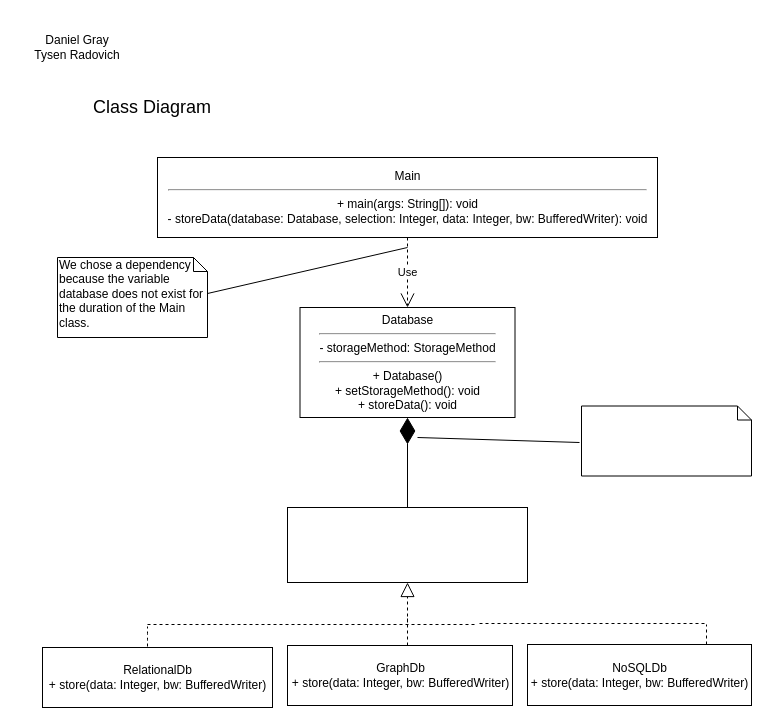
Image size: 769x725. Some labels were removed from this diagram. Each missing label, with the box of its shape:
I StorageMethod + store(data: Integer, bw: BufferedWriter): (286, 506, 528, 582)
We chose composition because a database cannot work without a storage method: (580, 405, 752, 476)
